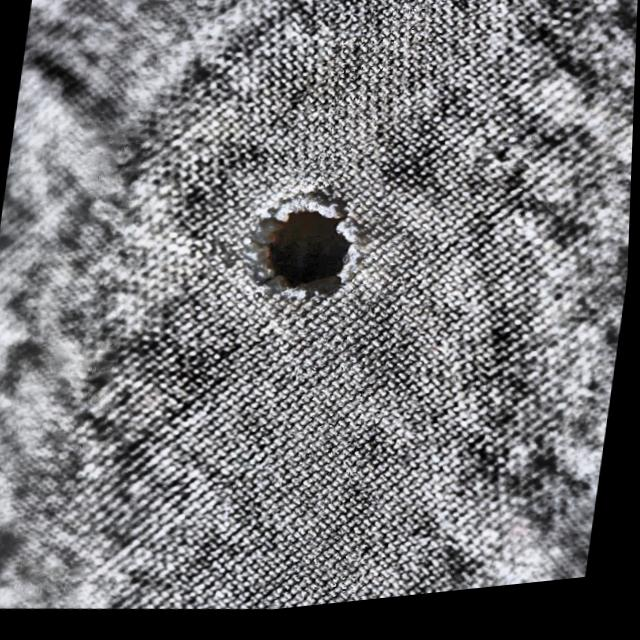Hole: (221, 175, 393, 333)
